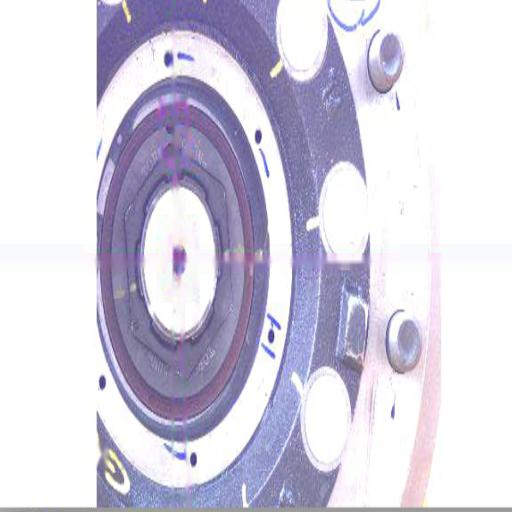center: (171, 244, 188, 280), (160, 118, 181, 139)
